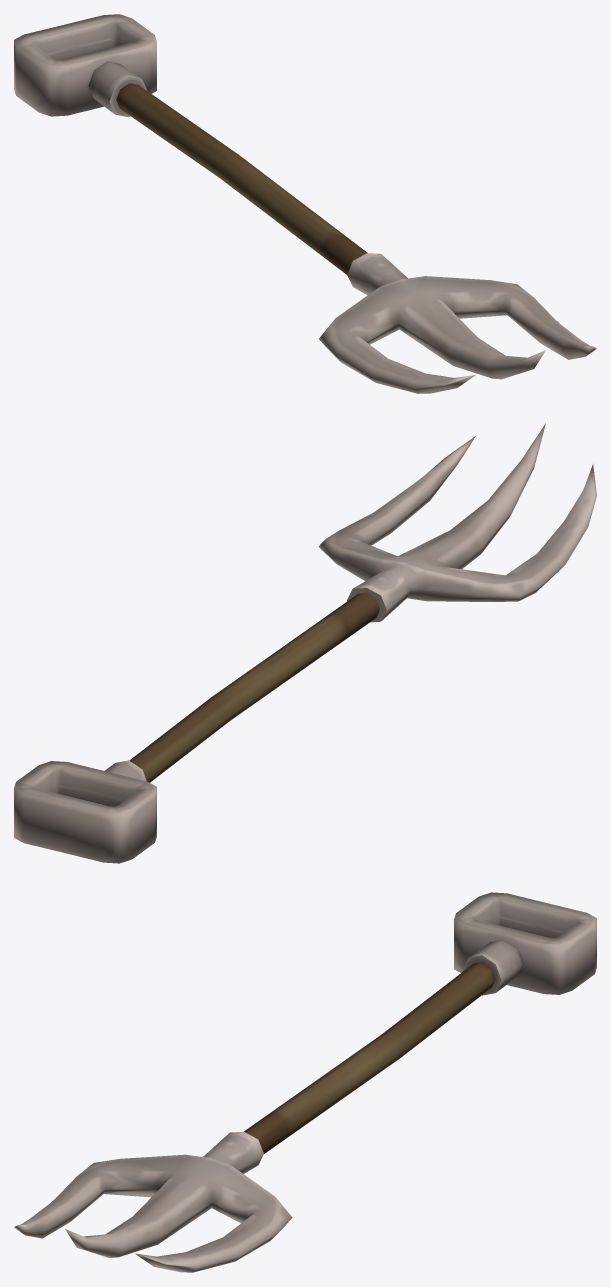
File: O_Pitchfork_A.fbx
The picture shows the model from 3 angles, top to bottom: view 1: azimuth 30°, elevation 25°; view 2: azimuth 150°, elevation 25°; view 3: azimuth 330°, elevation 25°; orthographic projection.
Parts seen in each view (by area): view 1: O_Pitchfork_A; view 2: O_Pitchfork_A; view 3: O_Pitchfork_A.
Part boxes in pixels (box(x1,y1,x2,y2)): O_Pitchfork_A: box(14, 14, 596, 393); O_Pitchfork_A: box(14, 423, 596, 863); O_Pitchfork_A: box(14, 892, 596, 1272).
Size of the model in its own units: 38.21 by 13.71 by 156.
